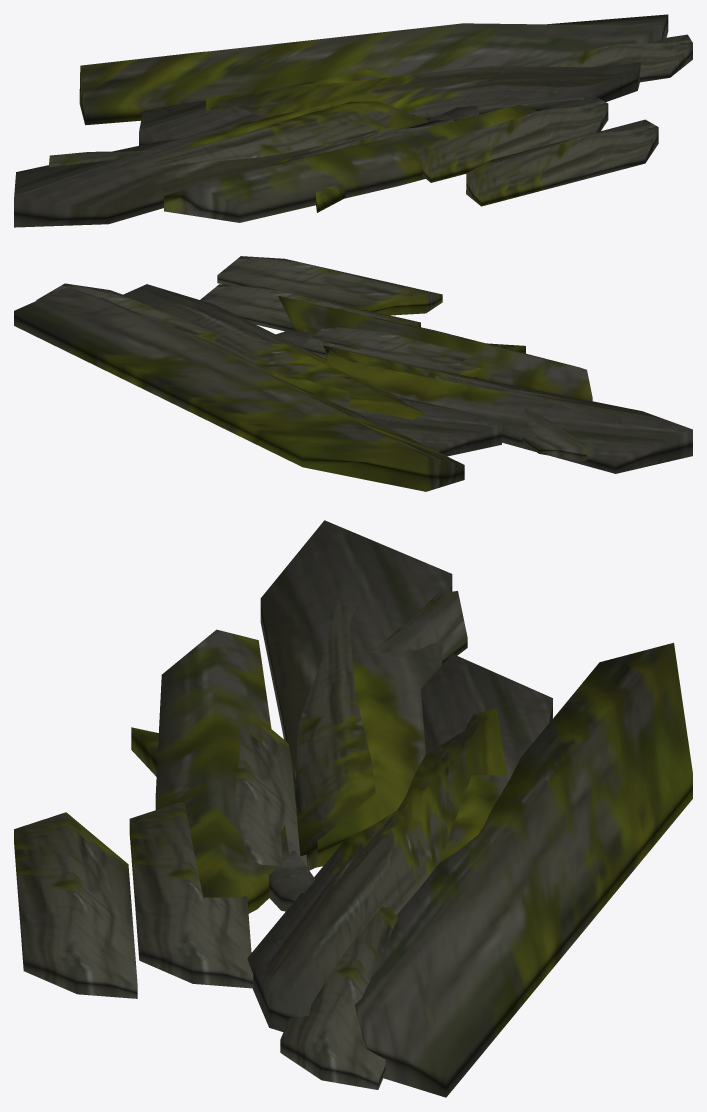
File: Brambles_01.fbx
3 renders of one model, top to bottom at view 1: azimuth 30°, elevation 25°; view 2: azimuth 150°, elevation 25°; view 3: azimuth 270°, elevation 25°, orthographic. The views are drawn at different scales.
Visible parts, largest first — view 1: WL_DeadFall_01, WL_DeadFall_04, WL_DeadFall_03, WL_DeadFall_02; view 2: WL_DeadFall_01, WL_DeadFall_03, WL_DeadFall_02, WL_DeadFall_04; view 3: WL_DeadFall_01, WL_DeadFall_03, WL_DeadFall_04, WL_DeadFall_02.
Boxes of the visible parts, bbox=[...] form: WL_DeadFall_01: bbox=[14, 14, 668, 227]; WL_DeadFall_04: bbox=[70, 96, 608, 212]; WL_DeadFall_03: bbox=[205, 62, 640, 163]; WL_DeadFall_02: bbox=[48, 34, 692, 167]; WL_DeadFall_01: bbox=[14, 256, 692, 491]; WL_DeadFall_03: bbox=[120, 284, 488, 419]; WL_DeadFall_02: bbox=[36, 283, 593, 461]; WL_DeadFall_04: bbox=[200, 284, 621, 424]; WL_DeadFall_01: bbox=[14, 520, 692, 1097]; WL_DeadFall_03: bbox=[235, 708, 506, 1031]; WL_DeadFall_04: bbox=[129, 573, 375, 988]; WL_DeadFall_02: bbox=[280, 591, 552, 1089].
Bounding box in the file's own units: 3.03 × 0.1989 × 1.64.
1 material, 1 textured.
